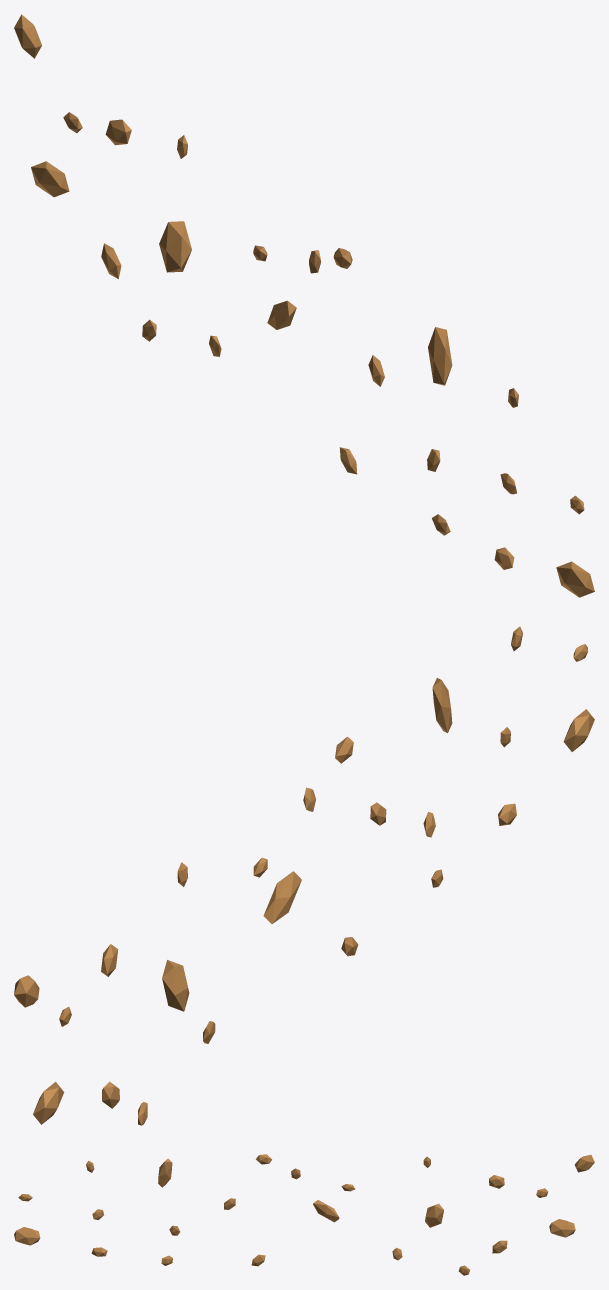
The model's file is glueIco.fbx.
3 views of the same model, one above another, from view 1: azimuth 30°, elevation 25°; view 2: azimuth 150°, elevation 25°; view 3: azimuth 270°, elevation 25° (orthographic). The views are drawn at different scales.
Visible parts, largest first — view 1: glueIco; view 2: glueIco; view 3: glueIco.
Part boxes in pixels (<box>): glueIco: <box>14,14,594,597</box>; glueIco: <box>14,626,594,1125</box>; glueIco: <box>14,1154,594,1275</box>.
Size of the model in its own units: 87.36 by 926 by 4040.
